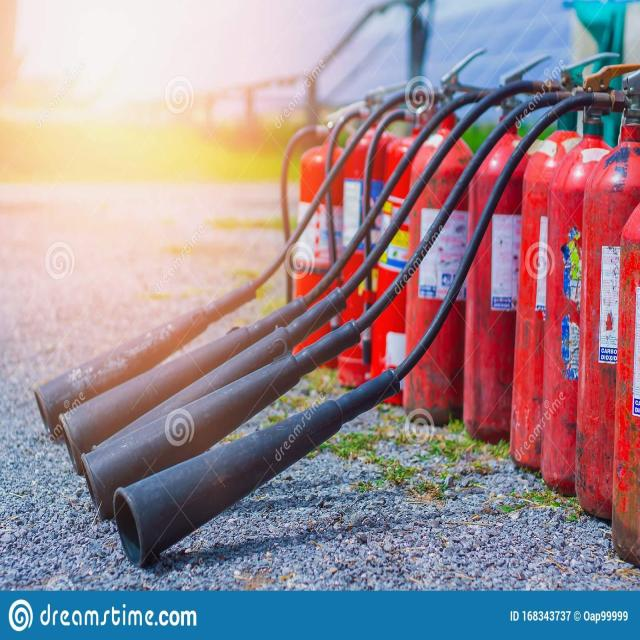fire_extinguisher: (77, 61, 640, 541), (56, 49, 640, 482), (108, 66, 640, 531), (27, 51, 640, 440), (613, 173, 640, 576)
